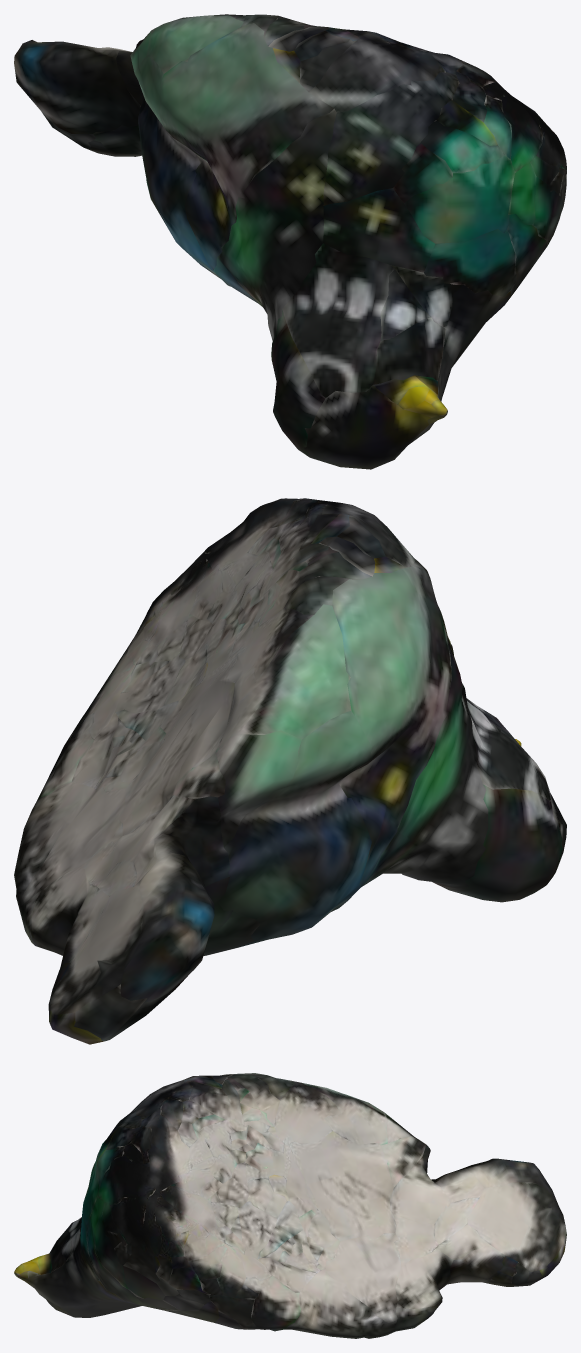
The model's file is hall.glb.
3 views of the same model, one above another, from view 1: azimuth 30°, elevation 25°; view 2: azimuth 150°, elevation 25°; view 3: azimuth 270°, elevation 25° (orthographic). The views are drawn at different scales.
Size of the model in its own units: 0.3903 by 0.4059 by 0.7817.
Materials: 1 (1 with a texture image).
